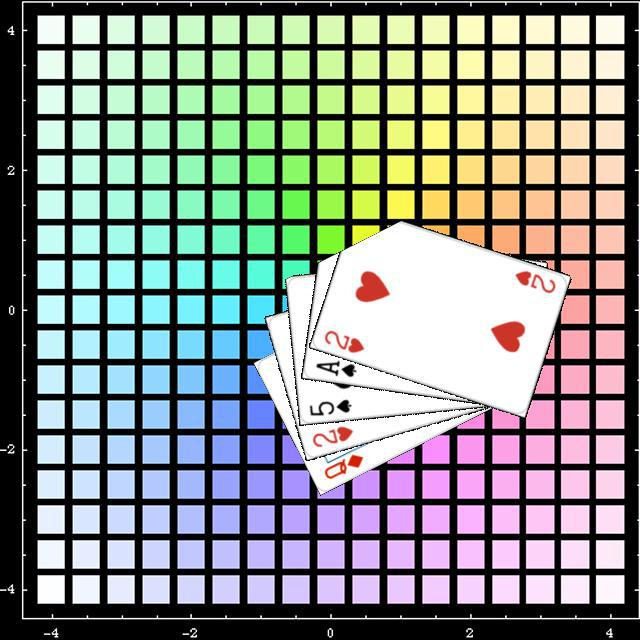2h: (319, 325, 366, 355), (510, 265, 557, 295), (307, 421, 354, 449)
5s: (304, 394, 353, 417)
As: (311, 355, 358, 378)
Qd: (319, 449, 365, 481)
